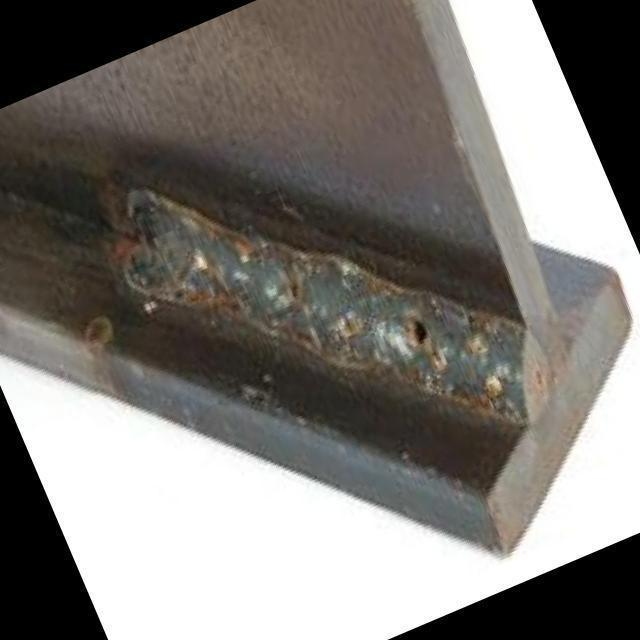defect: (408, 314, 433, 347)
